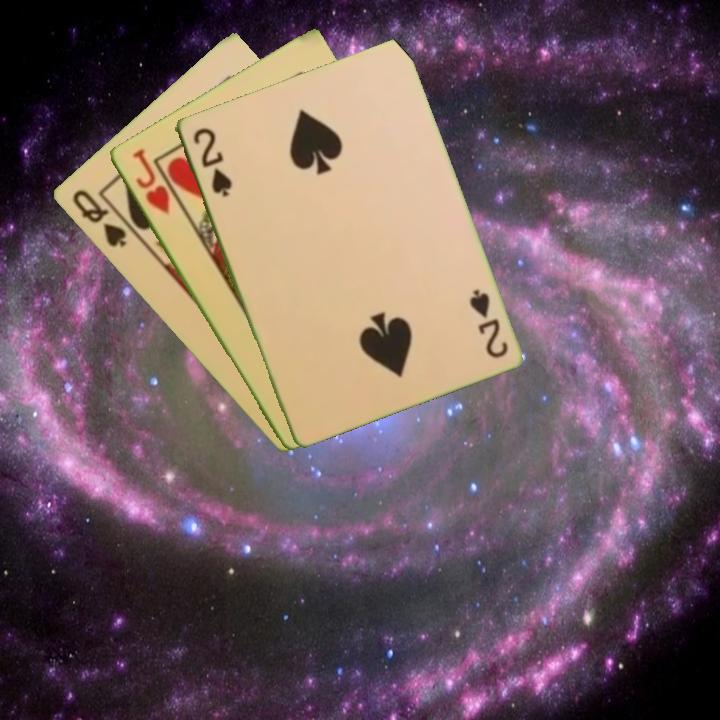2s: (465, 285, 511, 361), (189, 124, 234, 200)
Jh: (128, 145, 172, 218)
Qs: (68, 186, 129, 251)
